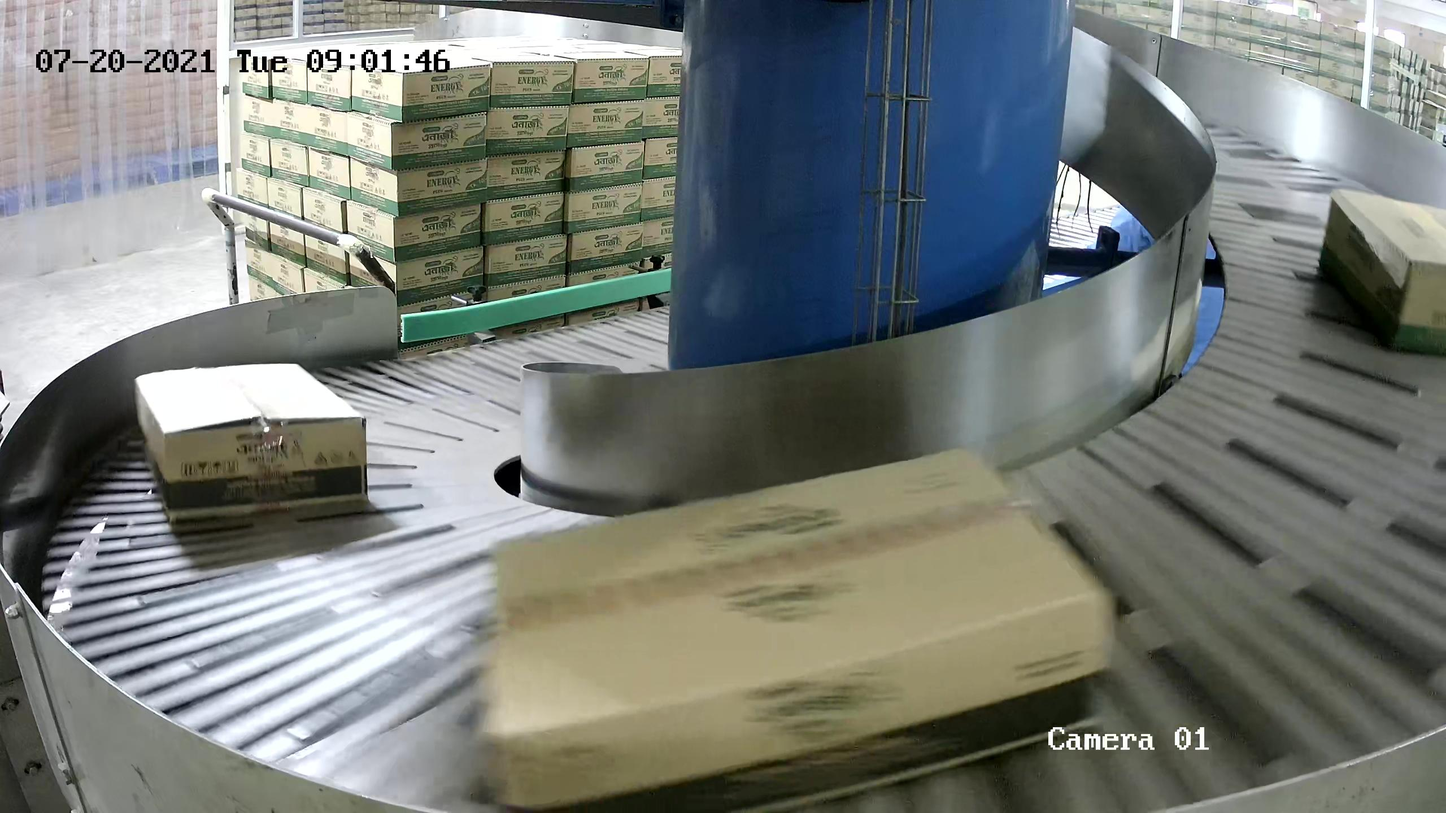Box: (472, 441, 1120, 813), (130, 359, 375, 526), (1317, 187, 1446, 357)
